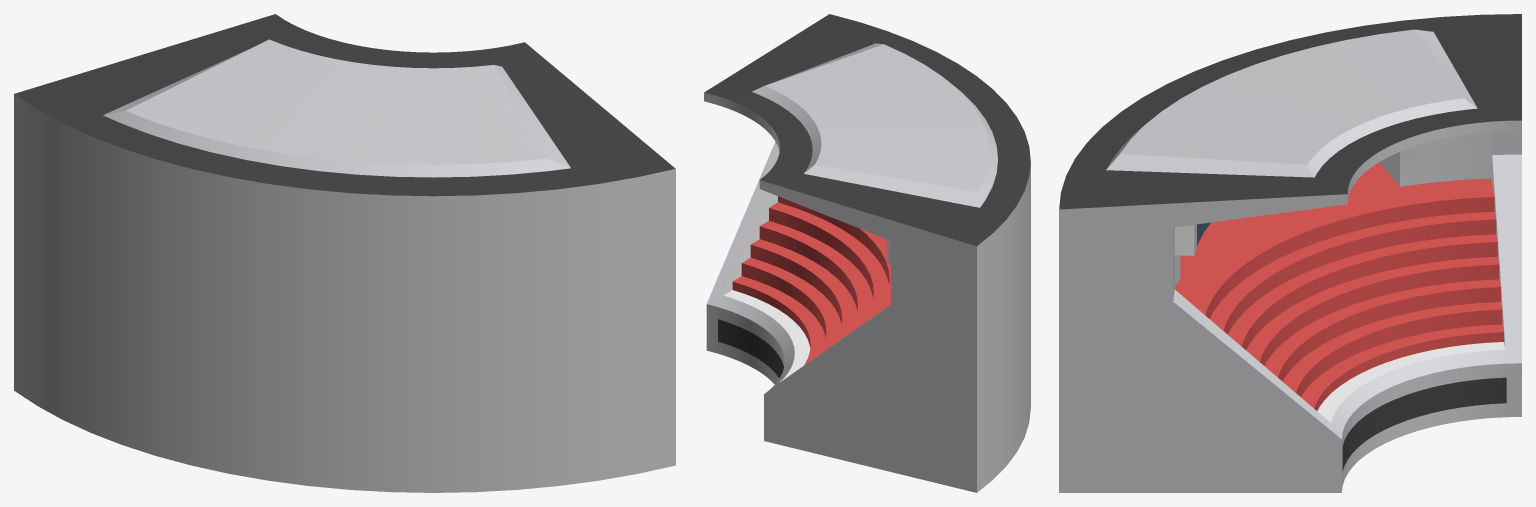
File: grandStandCoveredRound.obj
3 views of the same model, side by side, from view 1: azimuth 30°, elevation 25°; view 2: azimuth 150°, elevation 25°; view 3: azimuth 270°, elevation 25° (orthographic). The views are drawn at different scales.
Visible parts, largest first — view 1: grandStandCoveredRound; view 2: grandStandCoveredRound; view 3: grandStandCoveredRound.
Boxes of the visible parts, x1,y1,x2,y2 form: grandStandCoveredRound: (14,14,675,492); grandStandCoveredRound: (704,14,1030,492); grandStandCoveredRound: (1059,14,1521,492).
Bounding box in the file's own units: 1.64 × 1.19 × 1.64.
